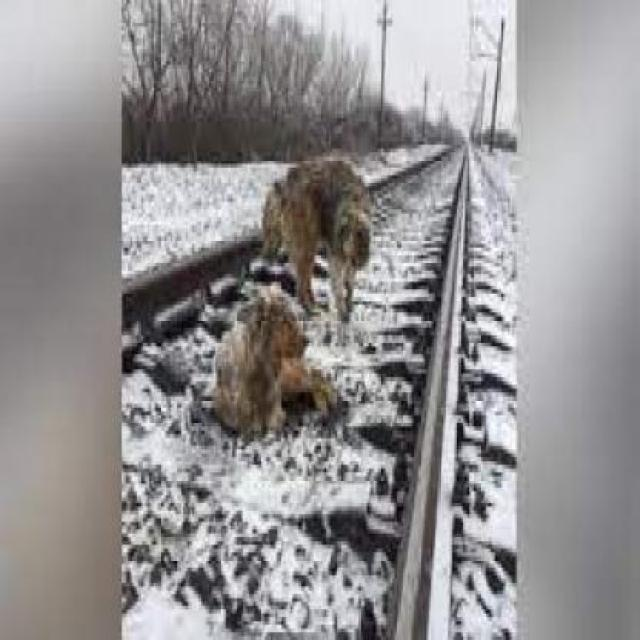danger: (252, 156, 394, 318), (198, 290, 337, 452)
rail: (125, 124, 511, 640)
